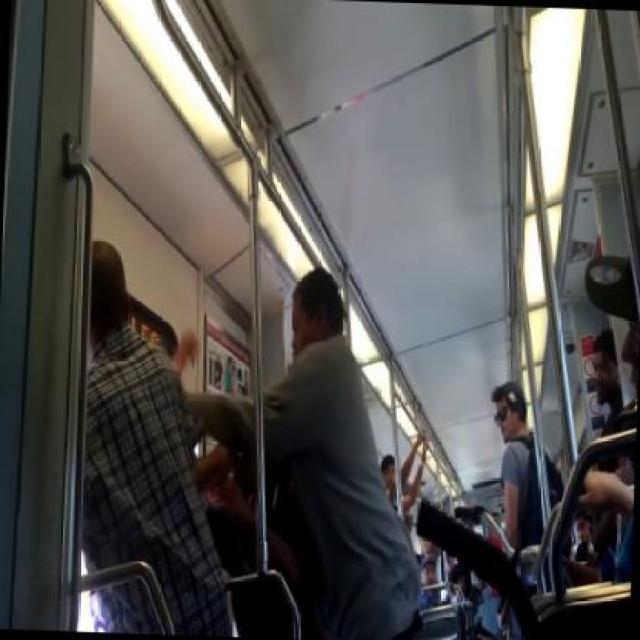fight: (77, 238, 420, 638)
non-fight: (484, 376, 568, 529)
